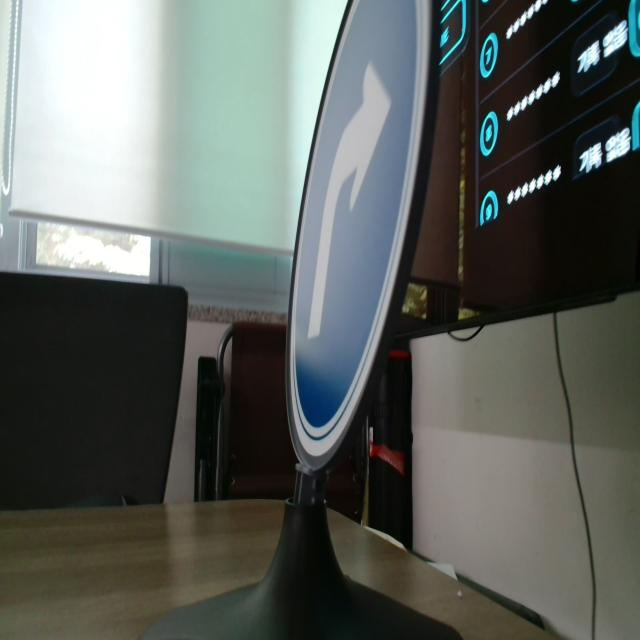right_dierection: (269, 0, 432, 465)
